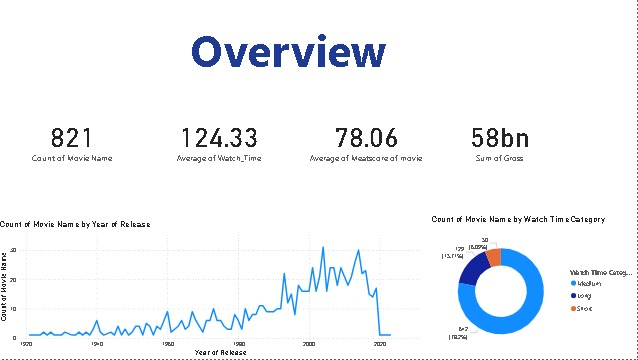

Layout of this report page (visuals, bound fields, positions):
{"tool":"powerbi","page":{"name":"Page 1","canvas":[1280,720],"ordinal":0},"visuals":[{"type":"card","fields":{"Values":["Count(Cleaned_Top_Ranked_Real_Movies_Dataset.Movie Name)"]},"box":[10,140,280,280],"z":0},{"type":"card","fields":{"Values":["Avg(Cleaned_Top_Ranked_Real_Movies_Dataset.Meatscore of movie)"]},"box":[598.3,140,280,280],"z":1000},{"type":"card","fields":{"Values":["Avg(Cleaned_Top_Ranked_Real_Movies_Dataset.Watch Time)"]},"box":[303.3,205,280,148.3],"z":2000},{"type":"card","fields":{"Values":["Sum(Cleaned_Top_Ranked_Real_Movies_Dataset.Gross)"]},"box":[863.3,140,280,280],"z":3000},{"type":"lineChart","fields":{"Category":["Cleaned_Top_Ranked_Real_Movies_Dataset.Year of Release"],"Y":["CountNonNull(Cleaned_Top_Ranked_Real_Movies_Dataset.Movie Name)"]},"box":[0,440,853.3,280],"z":4000},{"type":"donutChart","fields":{"Category":["Cleaned_Top_Ranked_Real_Movies_Dataset.Watch Time Category"],"Y":["CountNonNull(Cleaned_Top_Ranked_Real_Movies_Dataset.Movie Name)"]},"box":[863.3,430,416.7,290],"z":5000},{"type":"textbox","box":[336.7,36.7,493.3,150],"z":6000}]}

Visuals, with their boxes in screenshot pixels (x1, y1, x2, y2), scaled from the page's 1280x720 canvas onto the 638x360 screenshot:
card - Count(Cleaned_Top_Ranked_Real_Movies_Dataset.Movie Name): {"x1": 5, "y1": 70, "x2": 145, "y2": 210}
card - Avg(Cleaned_Top_Ranked_Real_Movies_Dataset.Meatscore of movie): {"x1": 298, "y1": 70, "x2": 438, "y2": 210}
card - Avg(Cleaned_Top_Ranked_Real_Movies_Dataset.Watch Time): {"x1": 151, "y1": 102, "x2": 291, "y2": 177}
card - Sum(Cleaned_Top_Ranked_Real_Movies_Dataset.Gross): {"x1": 430, "y1": 70, "x2": 570, "y2": 210}
lineChart - Cleaned_Top_Ranked_Real_Movies_Dataset.Year of Release x CountNonNull(Cleaned_Top_Ranked_Real_Movies_Dataset.Movie Name): {"x1": 0, "y1": 220, "x2": 425, "y2": 359}
donutChart - Cleaned_Top_Ranked_Real_Movies_Dataset.Watch Time Category x CountNonNull(Cleaned_Top_Ranked_Real_Movies_Dataset.Movie Name): {"x1": 430, "y1": 215, "x2": 637, "y2": 359}
textbox: {"x1": 168, "y1": 18, "x2": 414, "y2": 93}
